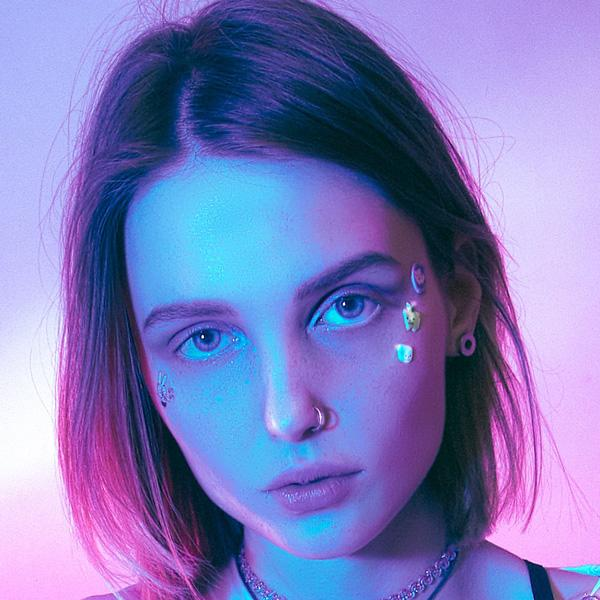Eyes: (303, 271, 397, 341), (161, 312, 249, 379)
